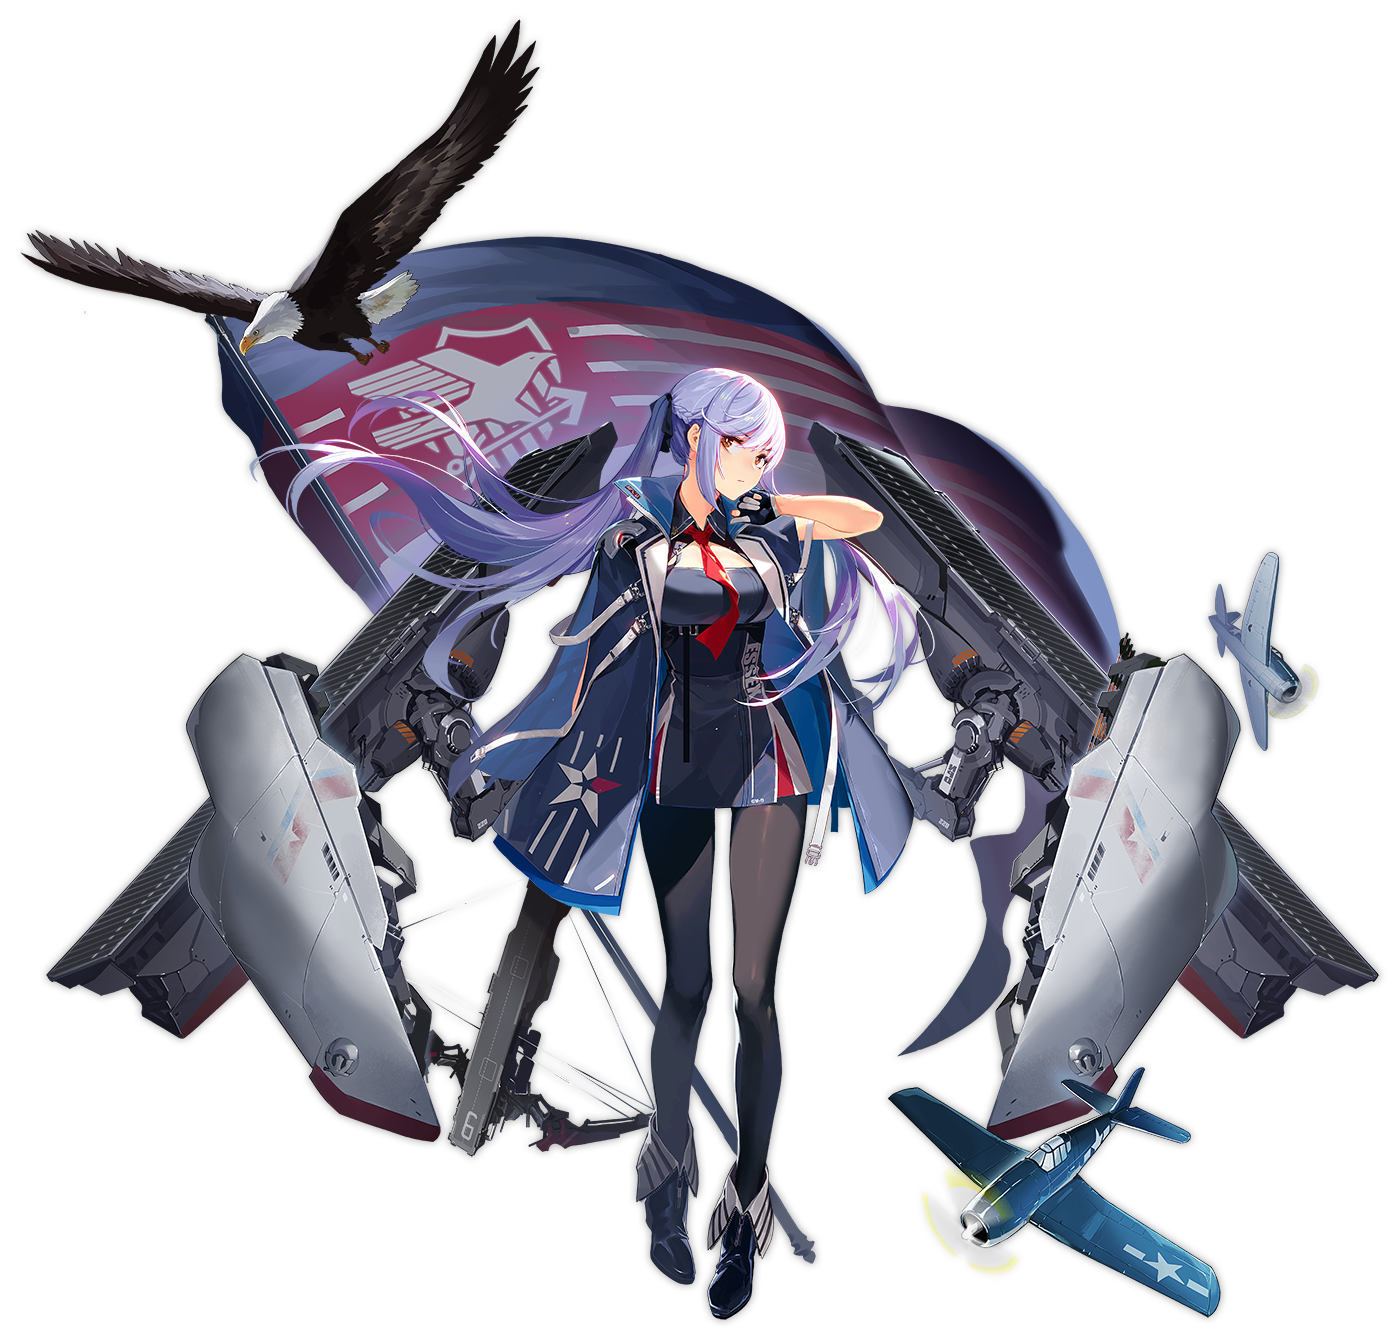person: (439, 361, 934, 1119)
